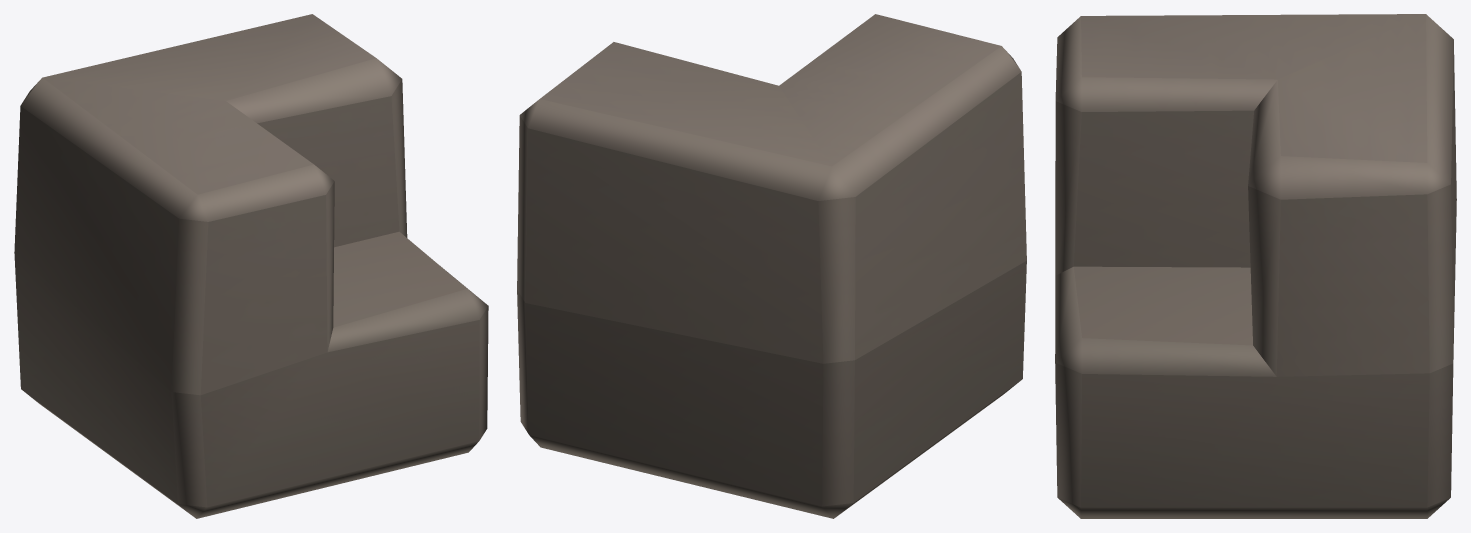
File: elf_stair_corner_conc_shade_5.fbx
The picture shows the model from 3 angles, left to right: view 1: azimuth 30°, elevation 25°; view 2: azimuth 150°, elevation 25°; view 3: azimuth 270°, elevation 25°; orthographic projection. The views are drawn at different scales.
Visible parts, largest first — view 1: elf_stair_corner_conc_shade_5; view 2: elf_stair_corner_conc_shade_5; view 3: elf_stair_corner_conc_shade_5.
Part boxes in pixels (x1,y1,x2,y2): elf_stair_corner_conc_shade_5: (14,14,488,518); elf_stair_corner_conc_shade_5: (517,14,1026,518); elf_stair_corner_conc_shade_5: (1055,14,1456,518).
Size of the model in its own units: 52.26 by 50.74 by 51.02.
